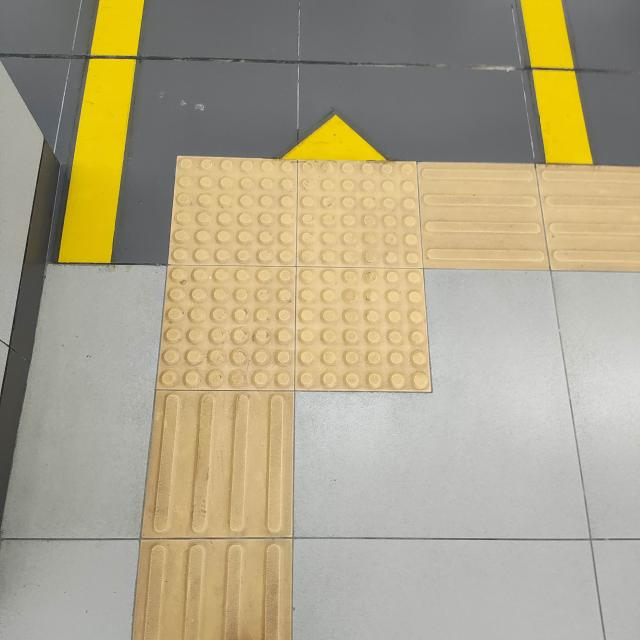kanan: (85, 105, 589, 435)
